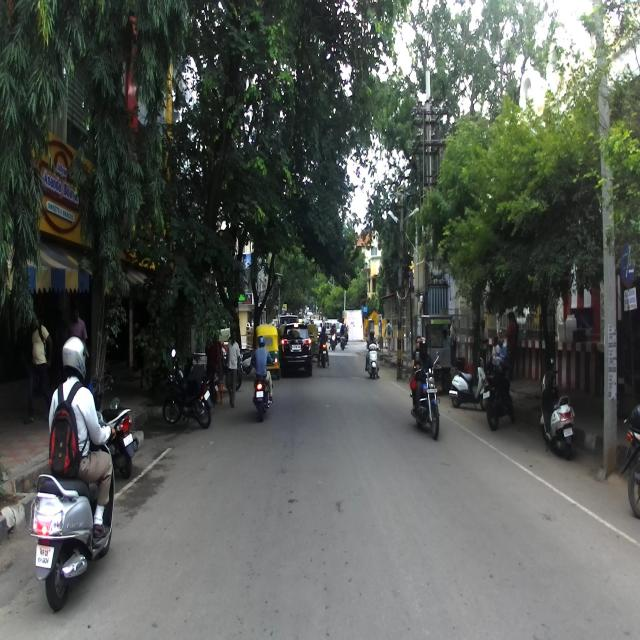car: (278, 321, 312, 378)
motorcycle: (409, 350, 441, 441), (479, 360, 516, 431), (252, 359, 274, 421)
scooter: (29, 394, 116, 614), (86, 376, 139, 479), (538, 354, 576, 460)
